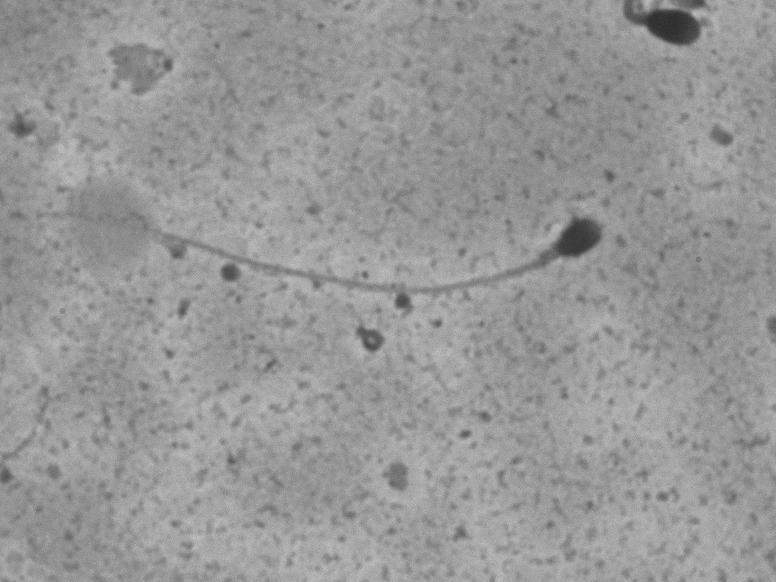Normal: (34, 167, 615, 302)
